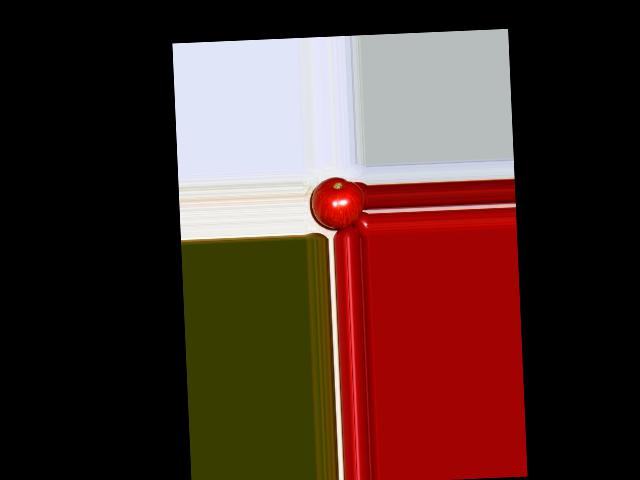tomato: (310, 175, 365, 230)
